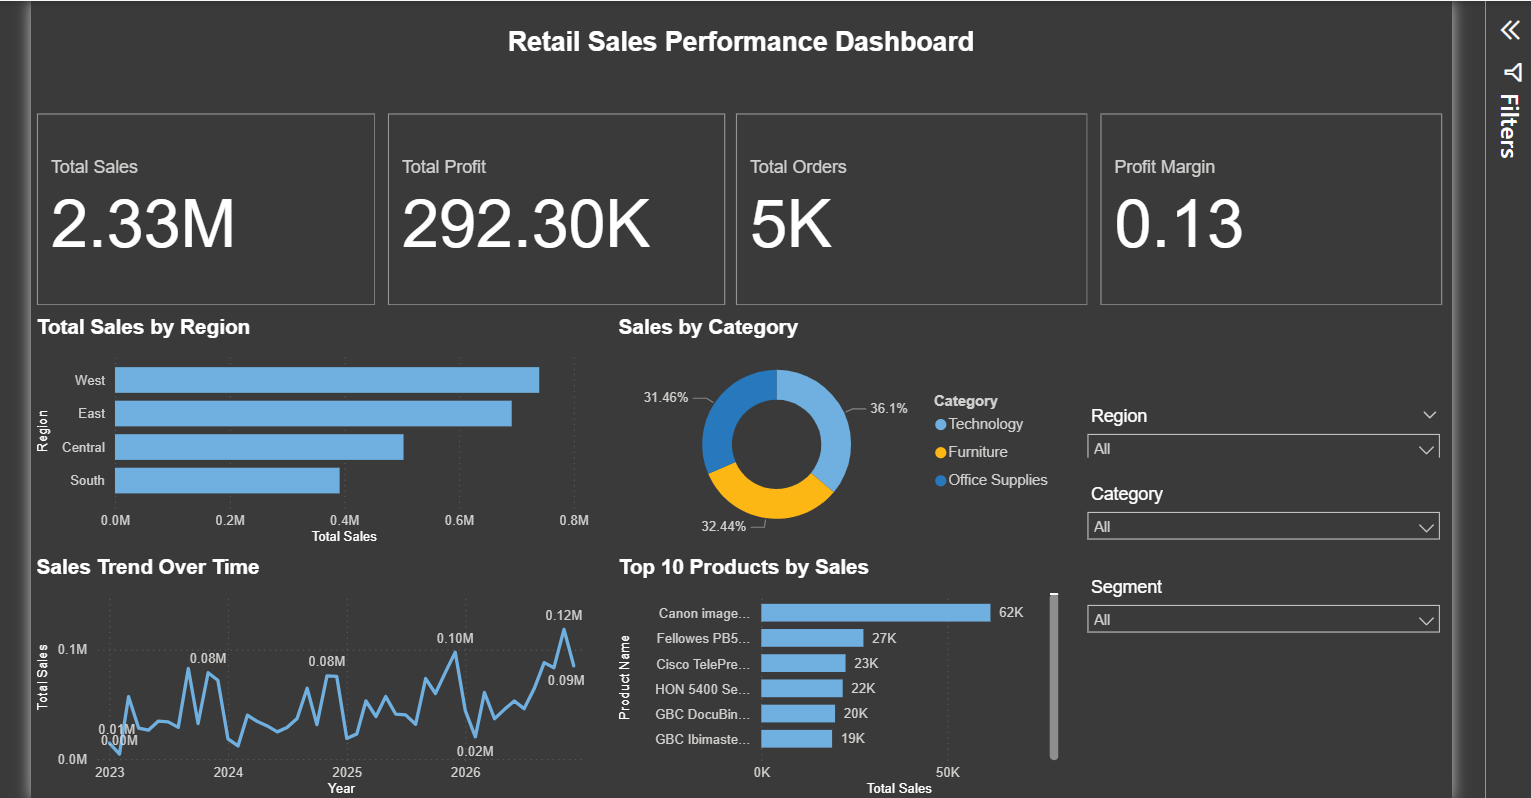

Layout of this report page (visuals, bound fields, positions):
{"tool":"powerbi","page":{"name":"Page 1","canvas":[1280,720],"ordinal":0},"visuals":[{"type":"cardVisual","fields":{"Data":["Orders.Total Profit"]},"box":[315.6,96.1,314.3,183.9],"z":0},{"type":"cardVisual","fields":{"Data":["Orders.Total Sales"]},"box":[0,96.1,315.6,183.9],"z":1000},{"type":"cardVisual","fields":{"Data":["Orders.Total Orders"]},"box":[629.9,96.1,328,183.9],"z":2000},{"type":"cardVisual","fields":{"Data":["Orders.Profit Margin"]},"box":[957.9,96.1,318.4,183.9],"z":3000},{"type":"lineChart","title":"Sales Trend Over Time","fields":{"Category":["Orders.Order Date.Variation.Date Hierarchy.Year","Orders.Order Date.Variation.Date Hierarchy.Month"],"Y":["Orders.Total Sales"]},"box":[0,499.5,507.8,220.9],"z":4000},{"type":"clusteredBarChart","fields":{"Category":["Orders.Region"],"Y":["Orders.Total Sales"]},"box":[0,284.1,507.8,210],"z":5000},{"type":"donutChart","title":"Sales by Category","fields":{"Category":["Orders.Category"],"Y":["Orders.Total Sales"]},"box":[524.2,284.1,406.2,210],"z":6000},{"type":"clusteredBarChart","title":"Top 10 Products by Sales","fields":{"Category":["Orders.Product Name"],"Y":["Orders.Total Sales"]},"box":[524.2,499.5,406.2,220.9],"z":7000},{"type":"slicer","fields":{"Values":["Orders.Region"]},"box":[942.8,359.5,337.6,52.1],"z":8000},{"type":"slicer","fields":{"Values":["Orders.Segment"]},"box":[942.8,513.3,337.6,56.3],"z":9000},{"type":"slicer","fields":{"Values":["Orders.Category"]},"box":[942.8,429.5,337.6,64.5],"z":10000},{"type":"textbox","box":[392.5,17.8,495.4,53.5],"z":10002}]}

Visuals, with their boxes on the page's 1280x720 design canvas (x1, y1, x2, y2). These are canvas units, not pixel positions in the 1531x798 screenshot, which may show the page scaled, cropped or inside an application window:
cardVisual - Orders.Total Profit: left=316, top=96, right=630, bottom=280
cardVisual - Orders.Total Sales: left=0, top=96, right=316, bottom=280
cardVisual - Orders.Total Orders: left=630, top=96, right=958, bottom=280
cardVisual - Orders.Profit Margin: left=958, top=96, right=1276, bottom=280
"Sales Trend Over Time" lineChart: left=0, top=500, right=508, bottom=720
clusteredBarChart - Orders.Region x Orders.Total Sales: left=0, top=284, right=508, bottom=494
"Sales by Category" donutChart: left=524, top=284, right=930, bottom=494
"Top 10 Products by Sales" clusteredBarChart: left=524, top=500, right=930, bottom=720
slicer - Orders.Region: left=943, top=360, right=1280, bottom=412
slicer - Orders.Segment: left=943, top=513, right=1280, bottom=570
slicer - Orders.Category: left=943, top=430, right=1280, bottom=494
textbox: left=392, top=18, right=888, bottom=71
